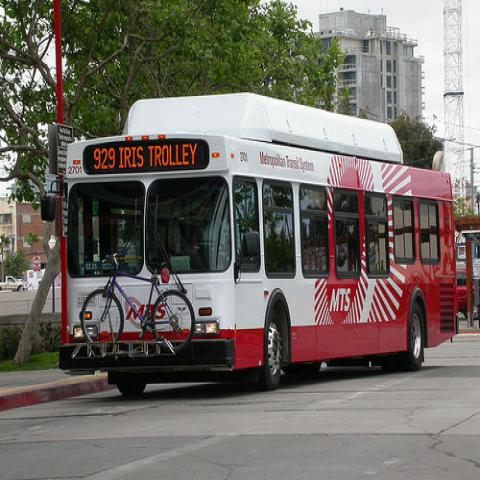bus: (35, 90, 459, 396)
car: (456, 269, 475, 318)
truck: (0, 276, 23, 291)
